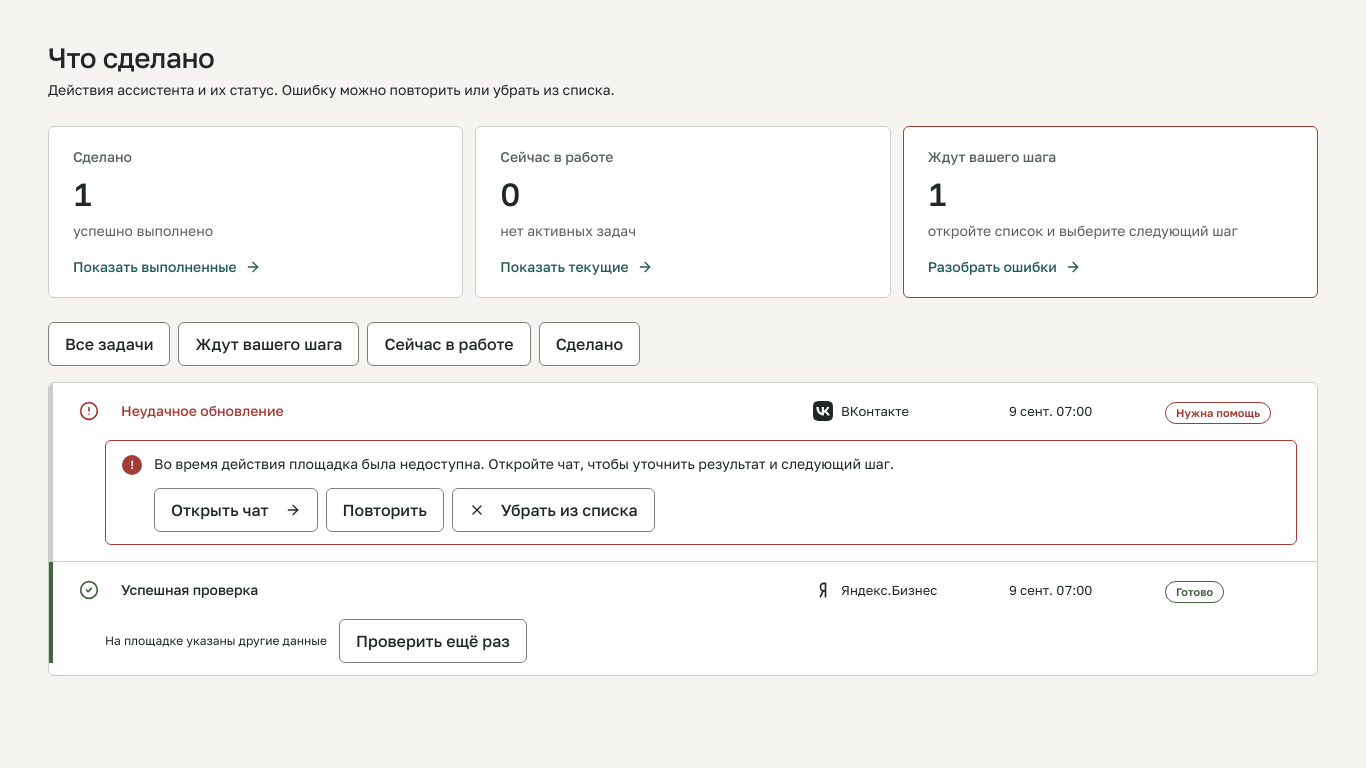
Test: drills into tasks needing help and provides a safe chat link without replaying an action
Expected: the text "Неудачное обновление" is shown, [121, 402, 284, 419]
Click the button "Разобрать ошибки": (992, 156) [903, 126, 1318, 298]
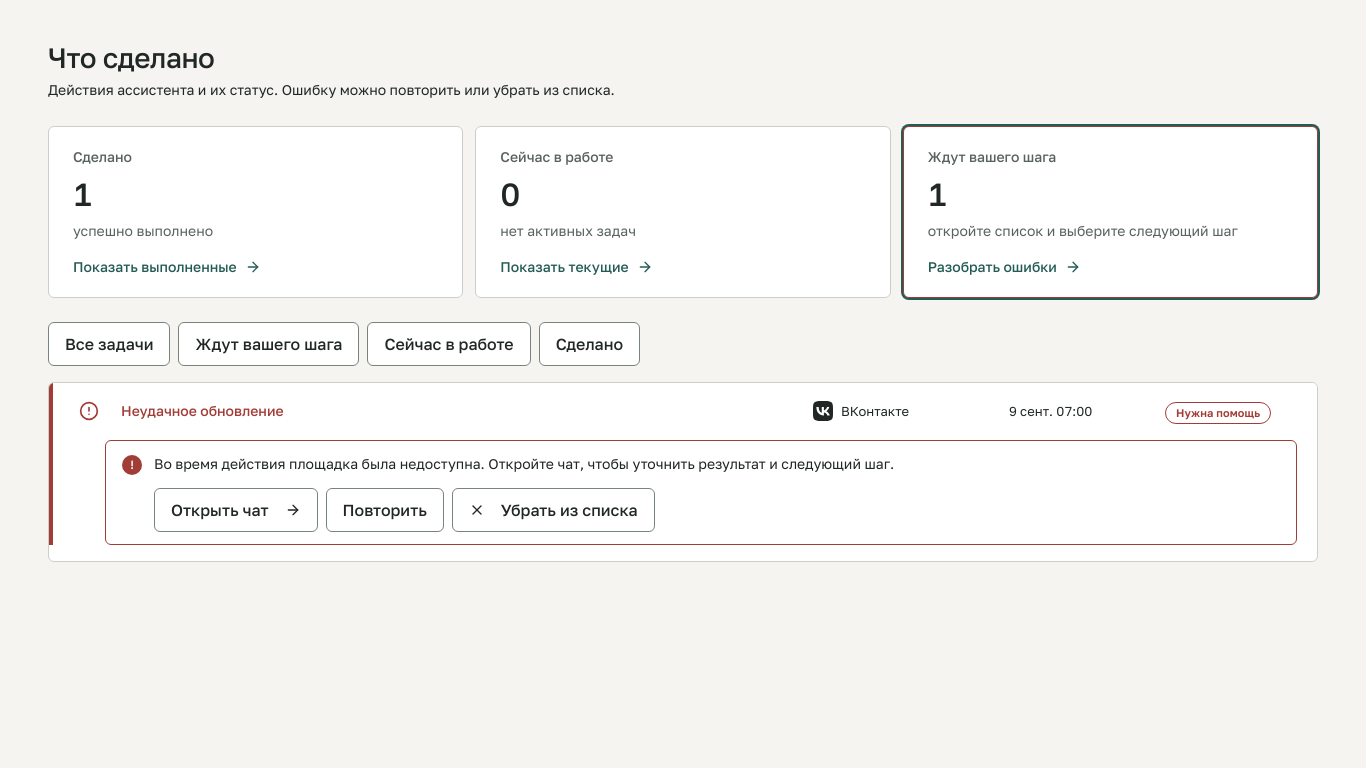
Expected: the text "Неудачное обновление" is shown, [121, 402, 284, 419]
Now the text "Успешная проверка" is gone
Click the button "Все задачи": (109, 344) [48, 322, 170, 366]
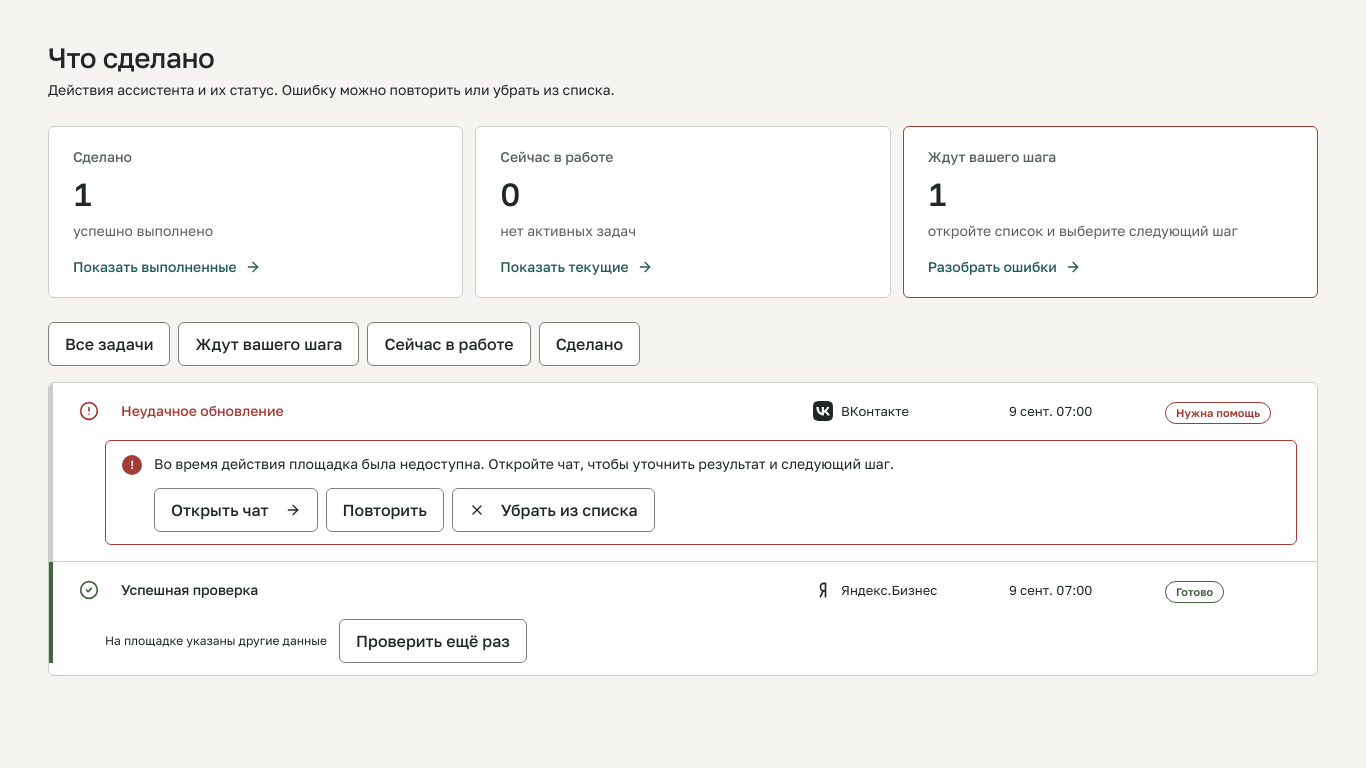
Now the text "Успешная проверка" is shown, box [121, 581, 258, 598]
